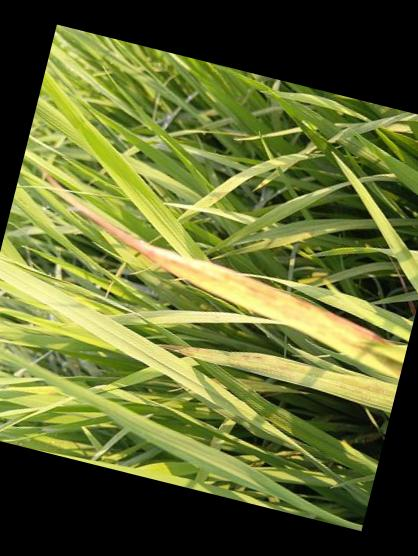Leaf Streak: (51, 187, 407, 412)
